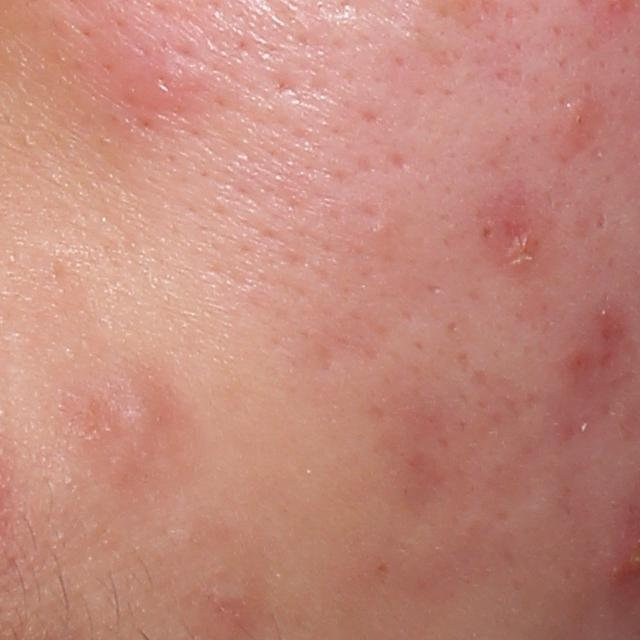atrophic_scar: (593, 208, 610, 231)
